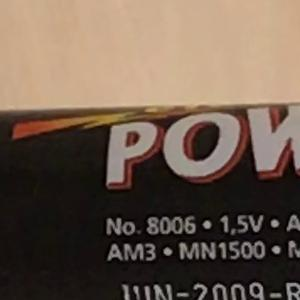1,5V: (212, 206, 273, 242)
